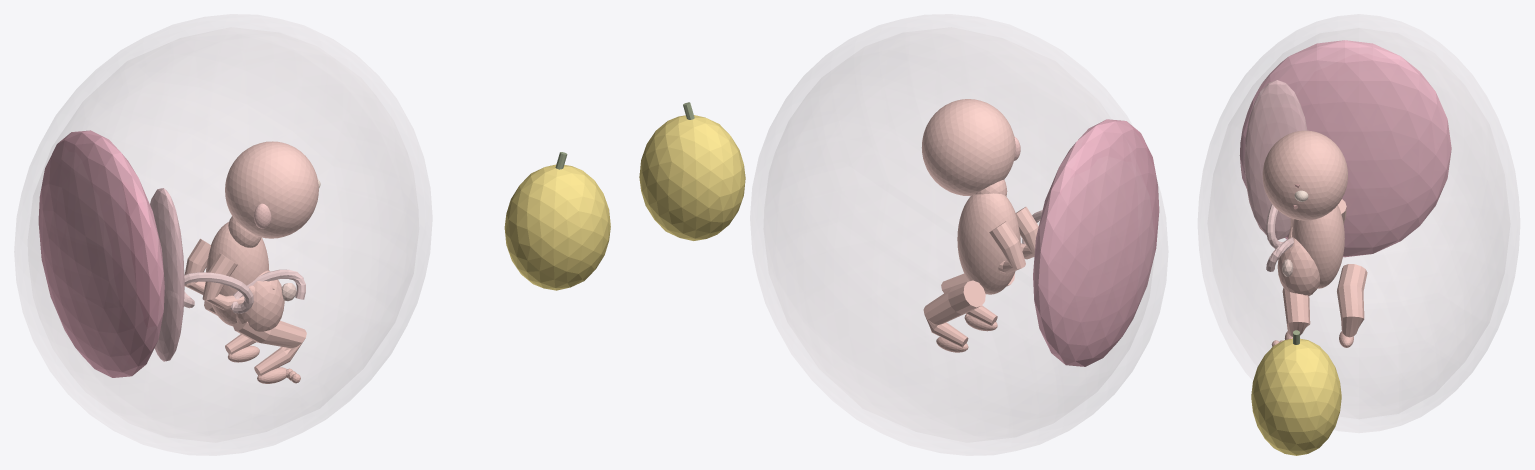
File: hafta_14.glb
3 views of the same model, side by side, from view 1: azimuth 30°, elevation 25°; view 2: azimuth 150°, elevation 25°; view 3: azimuth 270°, elevation 25° (orthographic). The views are drawn at different scales.
Parts seen in each view (by area): view 1: Gebelik_kesesi_dis_zar_25, Plasenta_gelisen_doku_27, Meyve_Limon_29, Bas_1, Plasenta_yumusak_yuzey_28, Gogus_govde_2, Bacak_on_18, Gobek_kordonu_ogretici_24, Gobel_ve_karin_3, Kol_on_11, Kol_on_arka_9; view 2: Gebelik_kesesi_dis_zar_25, Plasenta_gelisen_doku_27, Meyve_Limon_29, Bas_1, Gogus_govde_2, Bacak_arka_16, Kol_on_arka_9, Kol_on_11, Bacak_on_18; view 3: Gebelik_kesesi_dis_zar_25, Plasenta_gelisen_doku_27, Meyve_Limon_29, Bas_1, Plasenta_yumusak_yuzey_28, Gogus_govde_2, Bacak_arka_16, Gobel_ve_karin_3, Bacak_on_18, Gobek_kordonu_ogretici_24.
Part boxes in pixels (x1,y1,x2,y2): Gebelik_kesesi_dis_zar_25: [14, 14, 431, 455]; Plasenta_gelisen_doku_27: [38, 130, 164, 377]; Meyve_Limon_29: [504, 164, 610, 290]; Bas_1: [225, 141, 318, 238]; Plasenta_yumusak_yuzey_28: [150, 188, 184, 361]; Gogus_govde_2: [206, 222, 269, 326]; Bacak_on_18: [233, 320, 306, 375]; Gobek_kordonu_ogretici_24: [184, 269, 305, 313]; Gobel_ve_karin_3: [236, 270, 284, 331]; Kol_on_11: [202, 253, 244, 310]; Kol_on_arka_9: [184, 238, 210, 294]; Gebelik_kesesi_dis_zar_25: [750, 14, 1167, 455]; Plasenta_gelisen_doku_27: [1033, 119, 1159, 366]; Meyve_Limon_29: [639, 115, 745, 240]; Bas_1: [921, 99, 1015, 195]; Gogus_govde_2: [957, 193, 1020, 294]; Bacak_arka_16: [923, 280, 985, 347]; Kol_on_arka_9: [989, 221, 1025, 273]; Kol_on_11: [1015, 206, 1038, 259]; Bacak_on_18: [941, 273, 1014, 325]; Gebelik_kesesi_dis_zar_25: [1198, 14, 1519, 432]; Plasenta_gelisen_doku_27: [1239, 40, 1451, 257]; Meyve_Limon_29: [1251, 338, 1341, 455]; Bas_1: [1262, 130, 1347, 220]; Plasenta_yumusak_yuzey_28: [1244, 80, 1307, 239]; Gogus_govde_2: [1292, 205, 1344, 288]; Bacak_arka_16: [1337, 264, 1367, 337]; Gobel_ve_karin_3: [1277, 237, 1319, 295]; Bacak_on_18: [1282, 288, 1310, 336]; Gobek_kordonu_ogretici_24: [1266, 204, 1293, 271].
Bounding box in the file's own units: 11.03 × 8.1 × 6.2.
